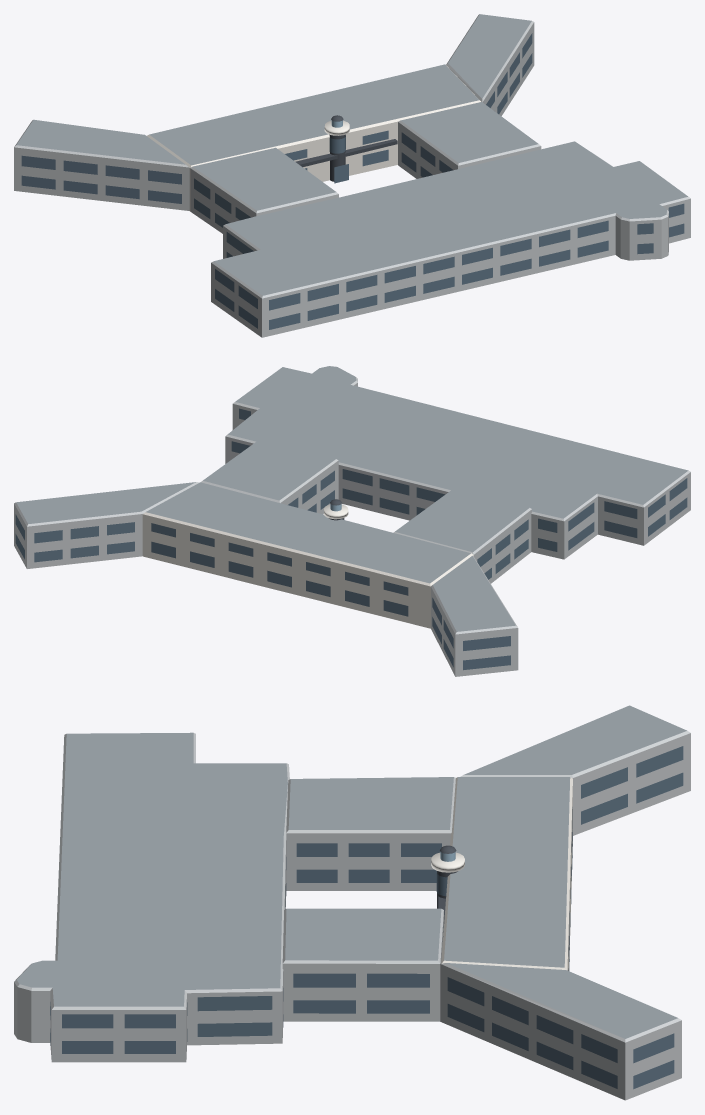
Rendered from nyc-ewr-building-1.glb.
The picture shows the model from 3 angles, top to bottom: view 1: azimuth 30°, elevation 25°; view 2: azimuth 150°, elevation 25°; view 3: azimuth 270°, elevation 25°; orthographic projection. The views are drawn at different scales.
Visible parts, largest first — view 1: Newark Airport Administration Building (Building One); view 2: Newark Airport Administration Building (Building One); view 3: Newark Airport Administration Building (Building One).
Part boxes in pixels (<box>): Newark Airport Administration Building (Building One): <box>14,14,690,337</box>; Newark Airport Administration Building (Building One): <box>14,366,690,676</box>; Newark Airport Administration Building (Building One): <box>14,705,690,1100</box>.
Size of the model in its own units: 114 by 13.1 by 97.
